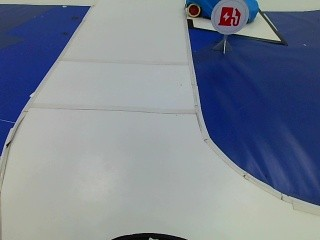battery: (212, 0, 250, 34)
